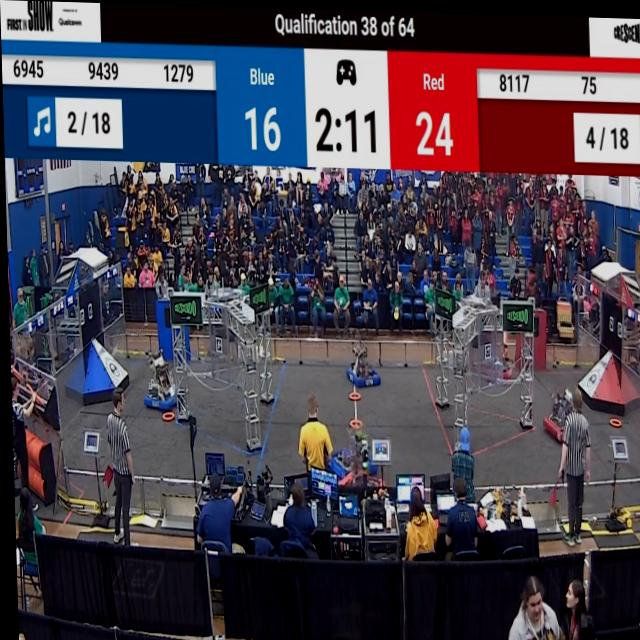Robot: (539, 380, 578, 441), (138, 352, 174, 415), (319, 436, 354, 489), (343, 338, 378, 390), (478, 338, 513, 377)
